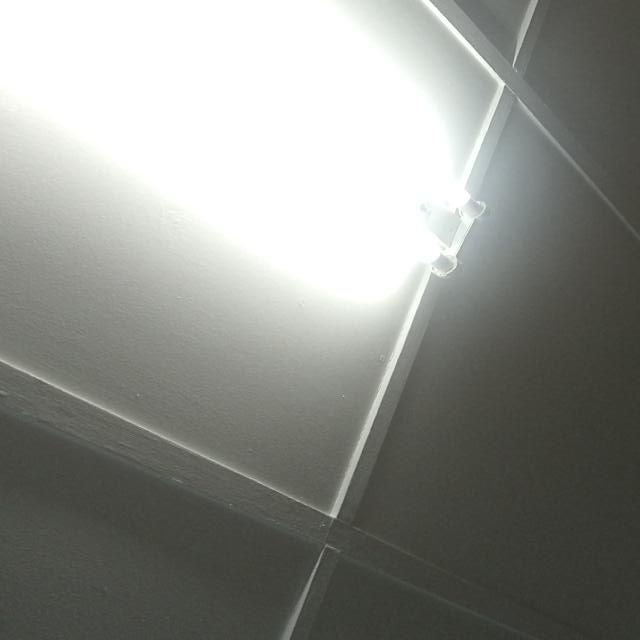fluorescent tube: (0, 0, 501, 326)
